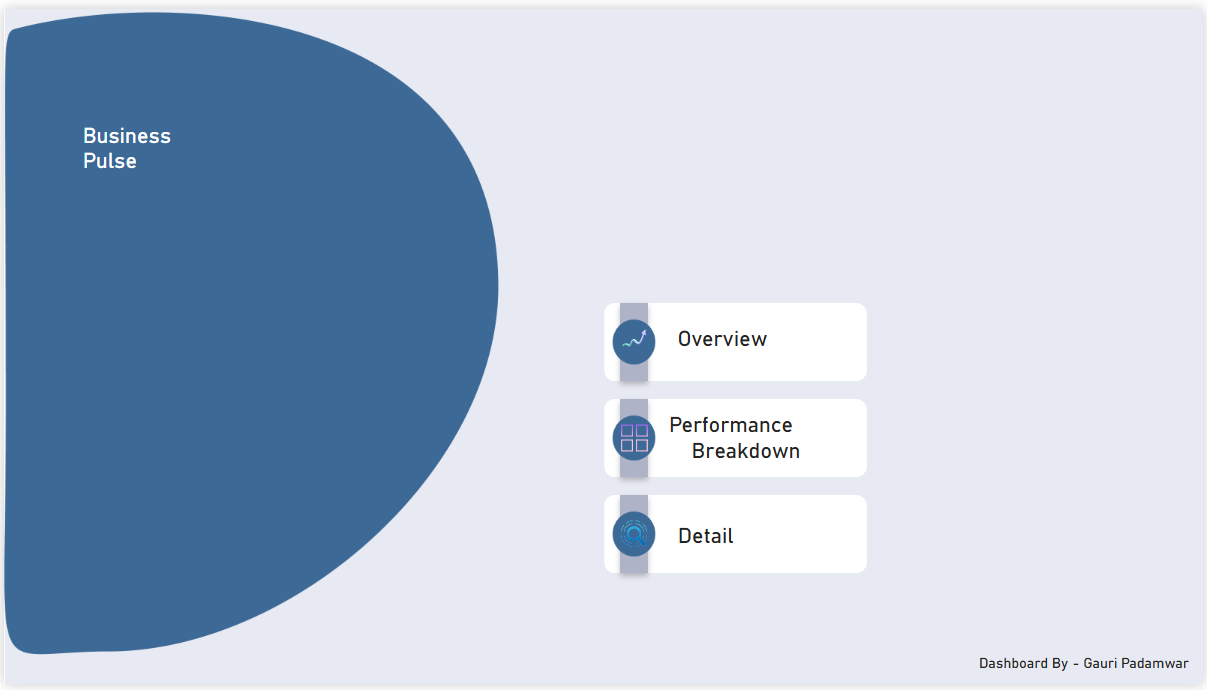

Layout of this report page (visuals, bound fields, positions):
{"tool":"powerbi","page":{"name":"Home","canvas":[1600,900],"ordinal":0},"visuals":[{"type":"actionButton","box":[800,410,81.7,66.7],"z":0},{"type":"actionButton","box":[800,540,81.7,66.7],"z":1},{"type":"actionButton","box":[800,666.7,81.7,66.7],"z":2},{"type":"textbox","box":[893.3,416.7,230,53.3],"z":3},{"type":"textbox","box":[881.7,531.7,260,68.3],"z":4},{"type":"textbox","box":[911.7,566.7,230,53.3],"z":5},{"type":"textbox","box":[893.3,680,230,53.3],"z":6},{"type":"textbox","box":[100,146.7,230,95],"z":7},{"type":"textbox","box":[1295,856.7,293.3,31.7],"z":8}]}

Visuals, with their boxes in screenshot pixels (x1, y1, x2, y2), scaled from the page's 1600x900 canvas onto the 1207x690 screenshot:
actionButton: box=[604, 314, 665, 365]
actionButton: box=[604, 414, 665, 465]
actionButton: box=[604, 511, 665, 562]
textbox: box=[674, 319, 847, 360]
textbox: box=[665, 408, 861, 460]
textbox: box=[688, 434, 861, 475]
textbox: box=[674, 521, 847, 562]
textbox: box=[75, 112, 249, 185]
textbox: box=[977, 657, 1198, 681]
